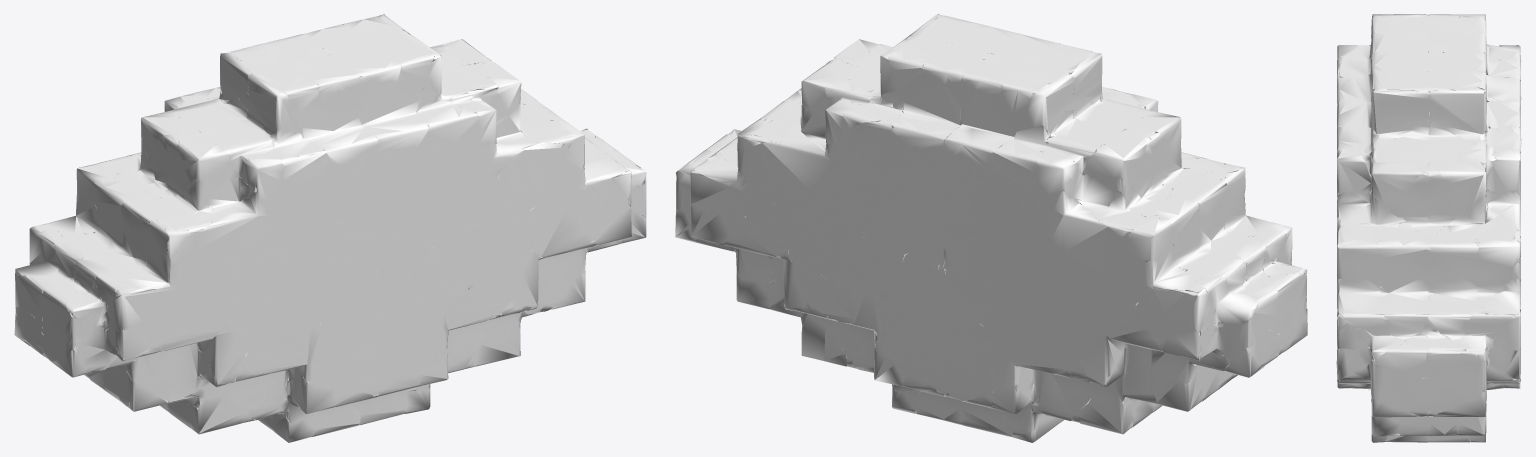
Rendered from nube5.fbx.
3 renders of one model, left to right at view 1: azimuth 30°, elevation 25°; view 2: azimuth 150°, elevation 25°; view 3: azimuth 270°, elevation 25°, orthographic. The views are drawn at different scales.
Parts seen in each view (by area): view 1: Mesh_0; view 2: Mesh_0; view 3: Mesh_0.
Boxes of the visible parts, x1,y1,x2,y2 form: Mesh_0: (14, 14, 646, 442); Mesh_0: (675, 14, 1307, 442); Mesh_0: (1336, 14, 1521, 442).
Bounding box in the file's own units: 190 × 111 × 54.1.
1 material, 1 textured.
